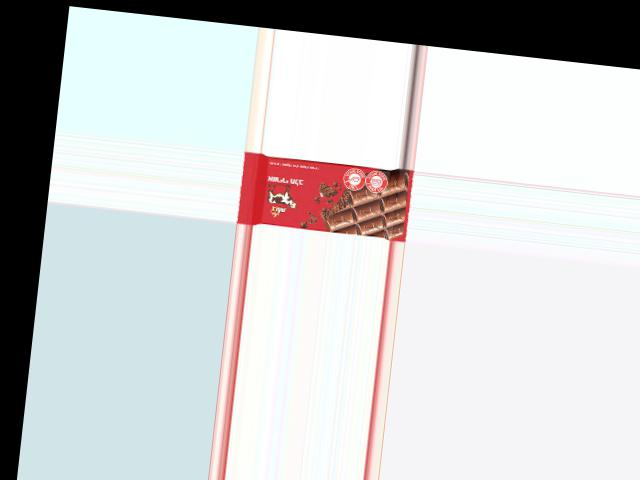chocolate: (235, 151, 411, 241)
